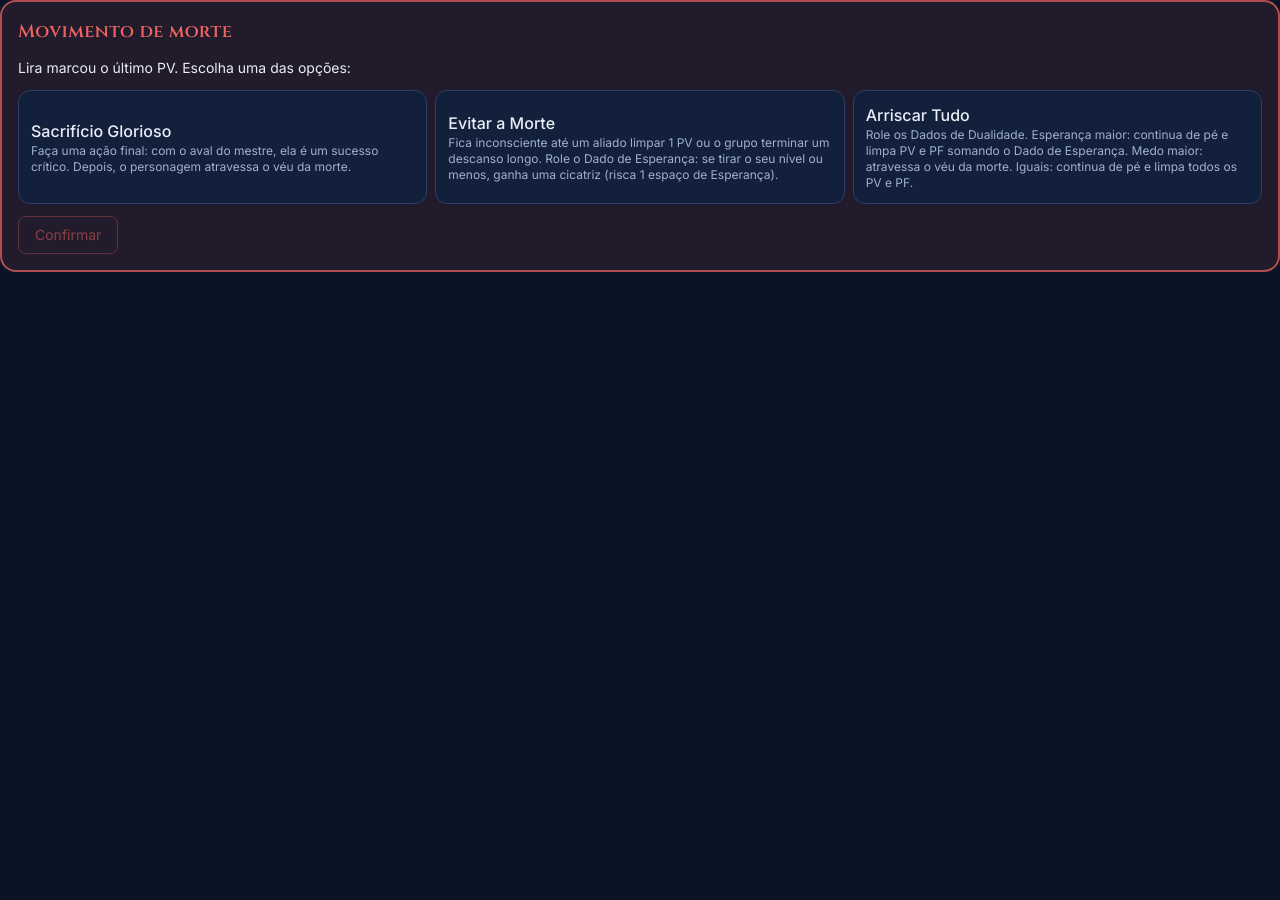
Movimento de morte › Arriscar Tudo com os dados da mesa e a divisão entre PV e PF
Click the button "Arriscar Tudo": {"x": 1057, "y": 147} [853,90,1262,204]
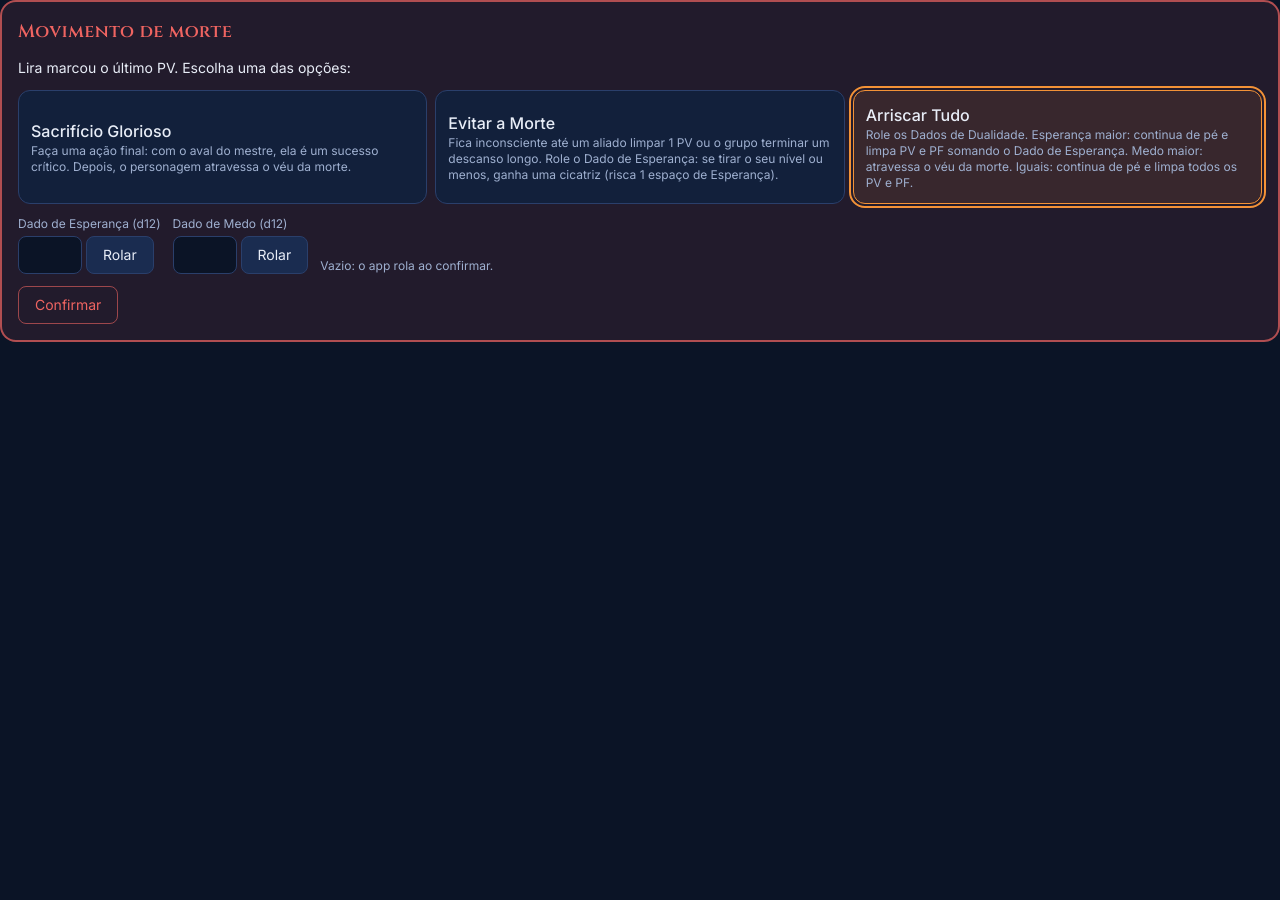
In the number field labelled "Dado de Esperança (d12)": {"x": 50, "y": 255} [18,236,82,274], type "8"
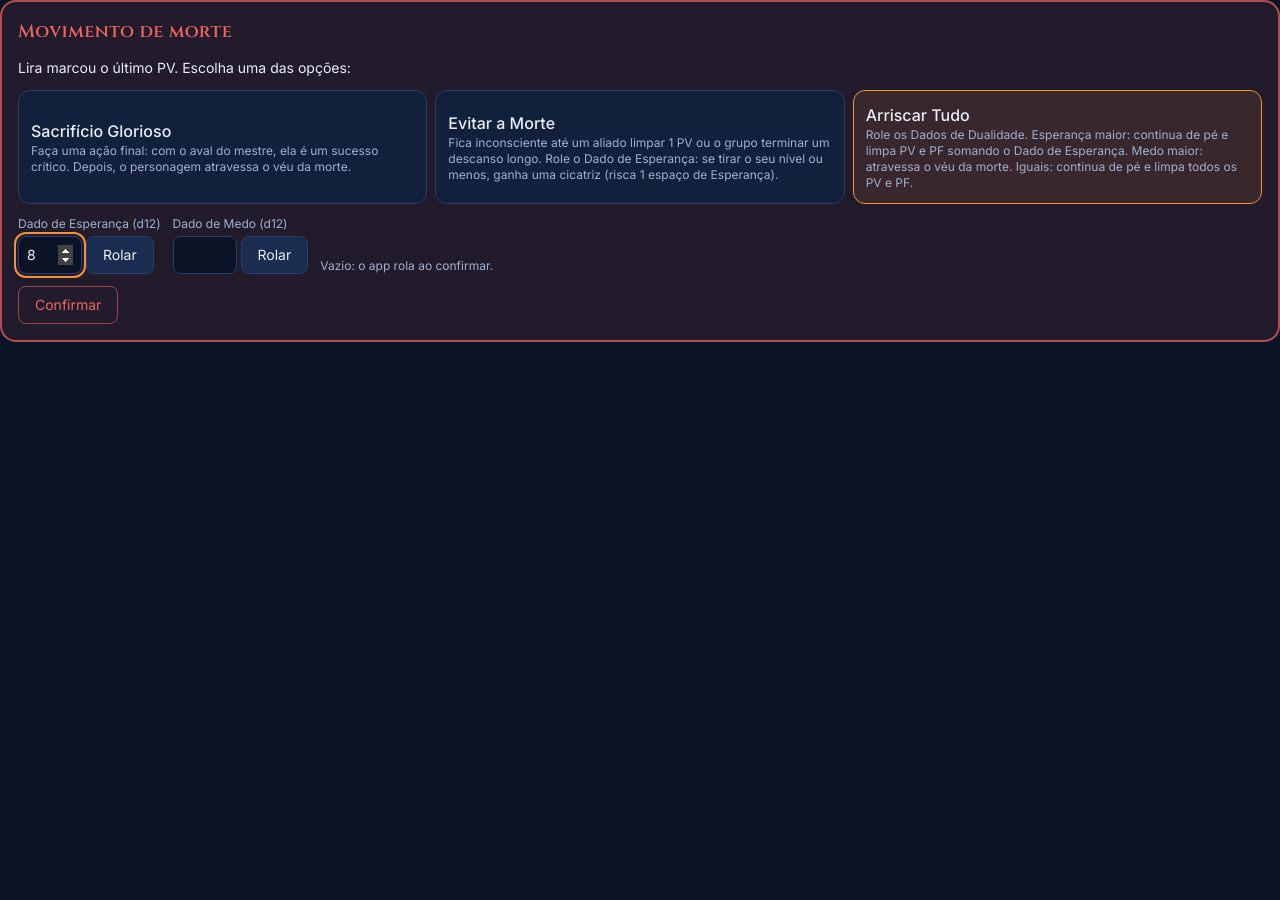
In the number field labelled "Dado de Medo (d12)": {"x": 204, "y": 255} [172,236,236,274], type "3"
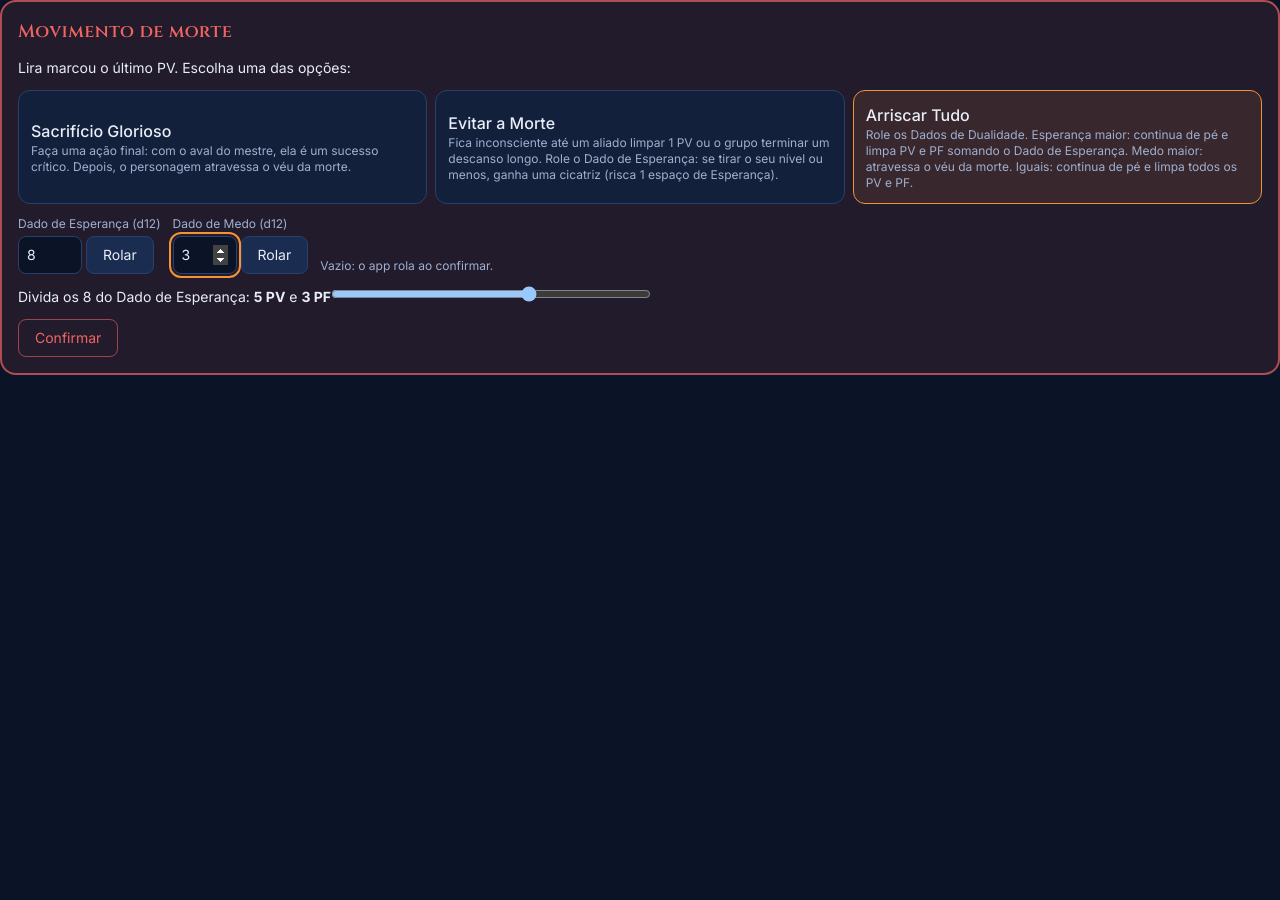
Set the slider named "Quanto vai para PV" to "6": {"x": 567, "y": 294} [331,286,651,302]
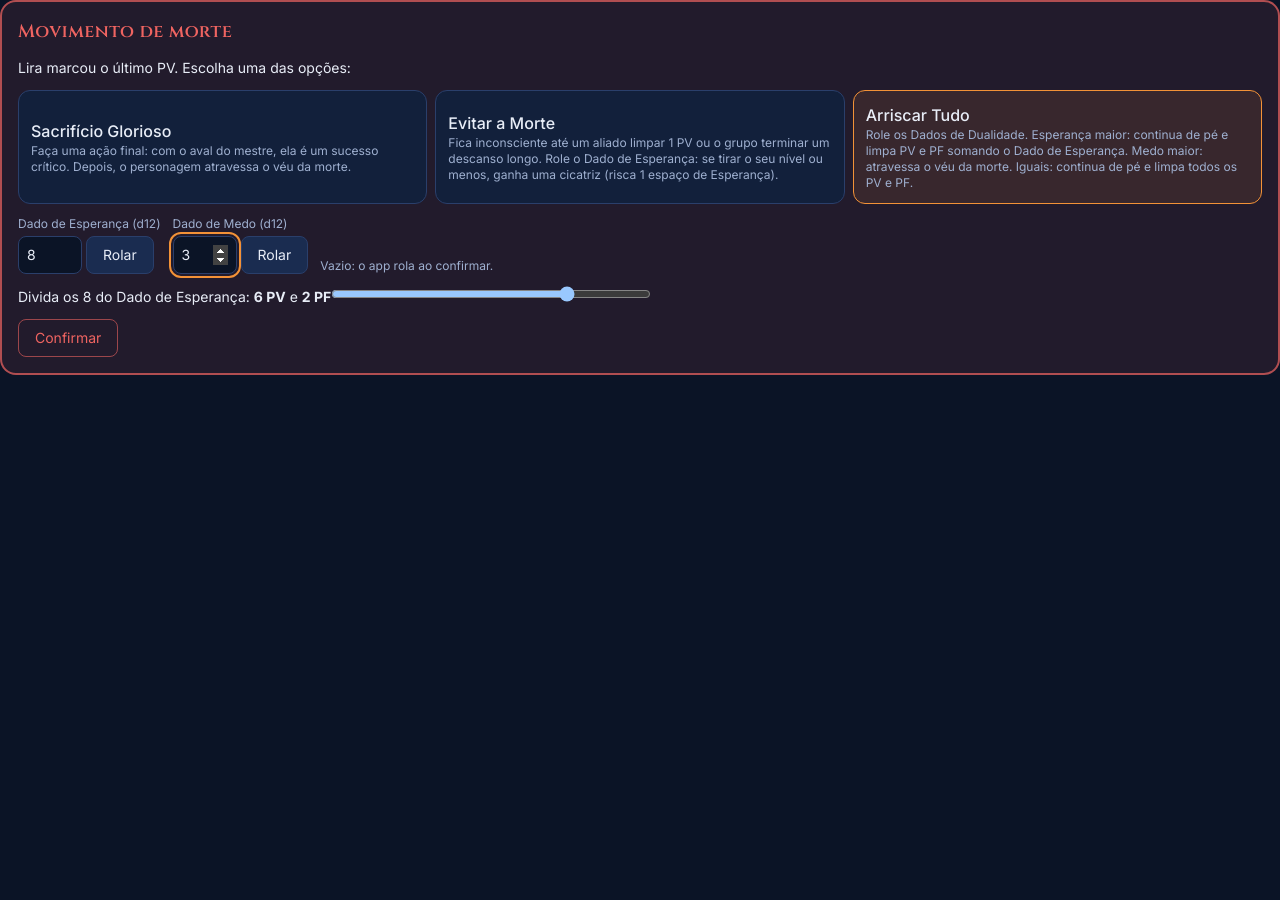
Expected: the text "6 PV" is shown, [254,288,286,305]
Click the button "Confirmar": {"x": 68, "y": 338} [18,319,118,357]
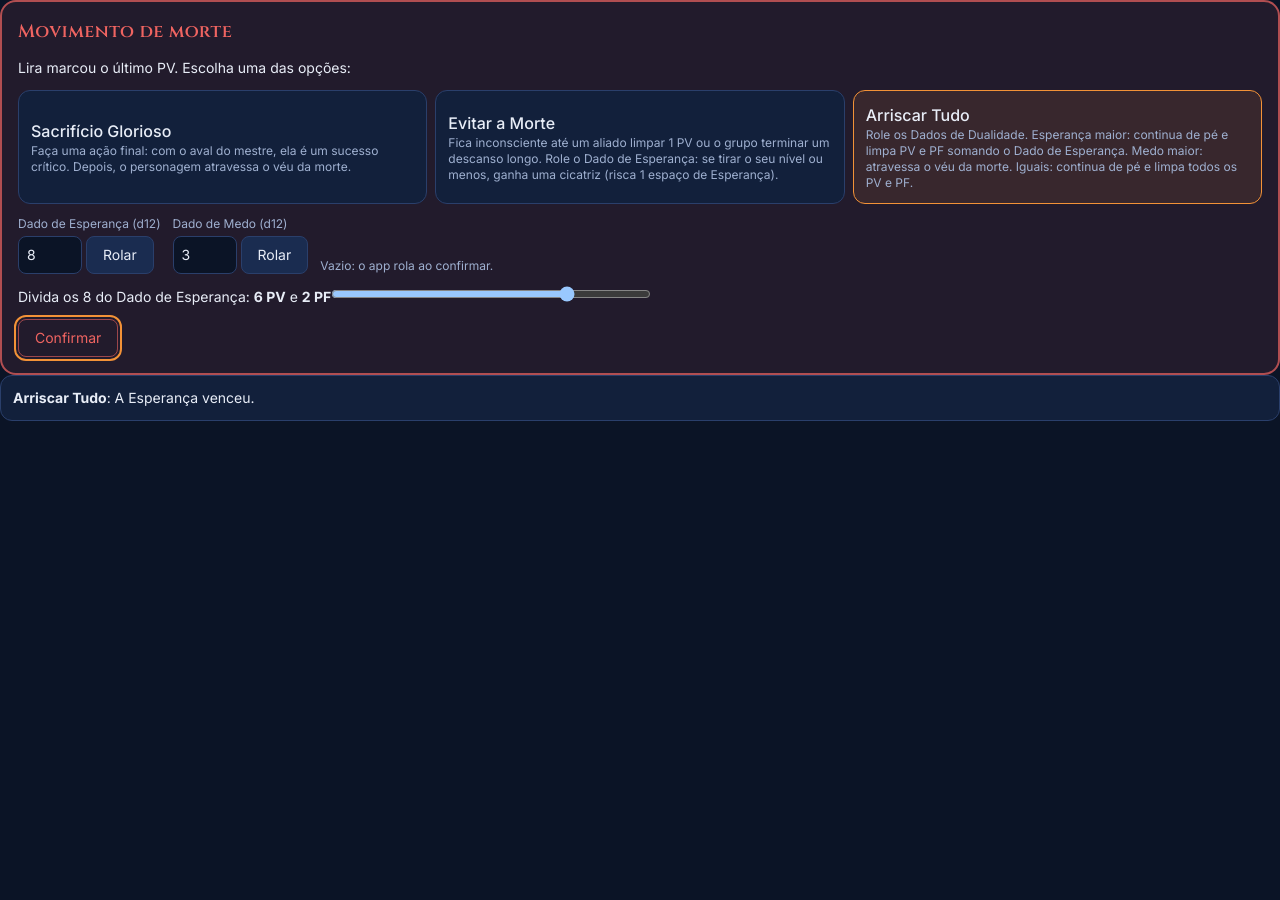
Expected: the text "Arriscar Tudo: A Esperança venceu." is shown, [0,375,1279,421]
